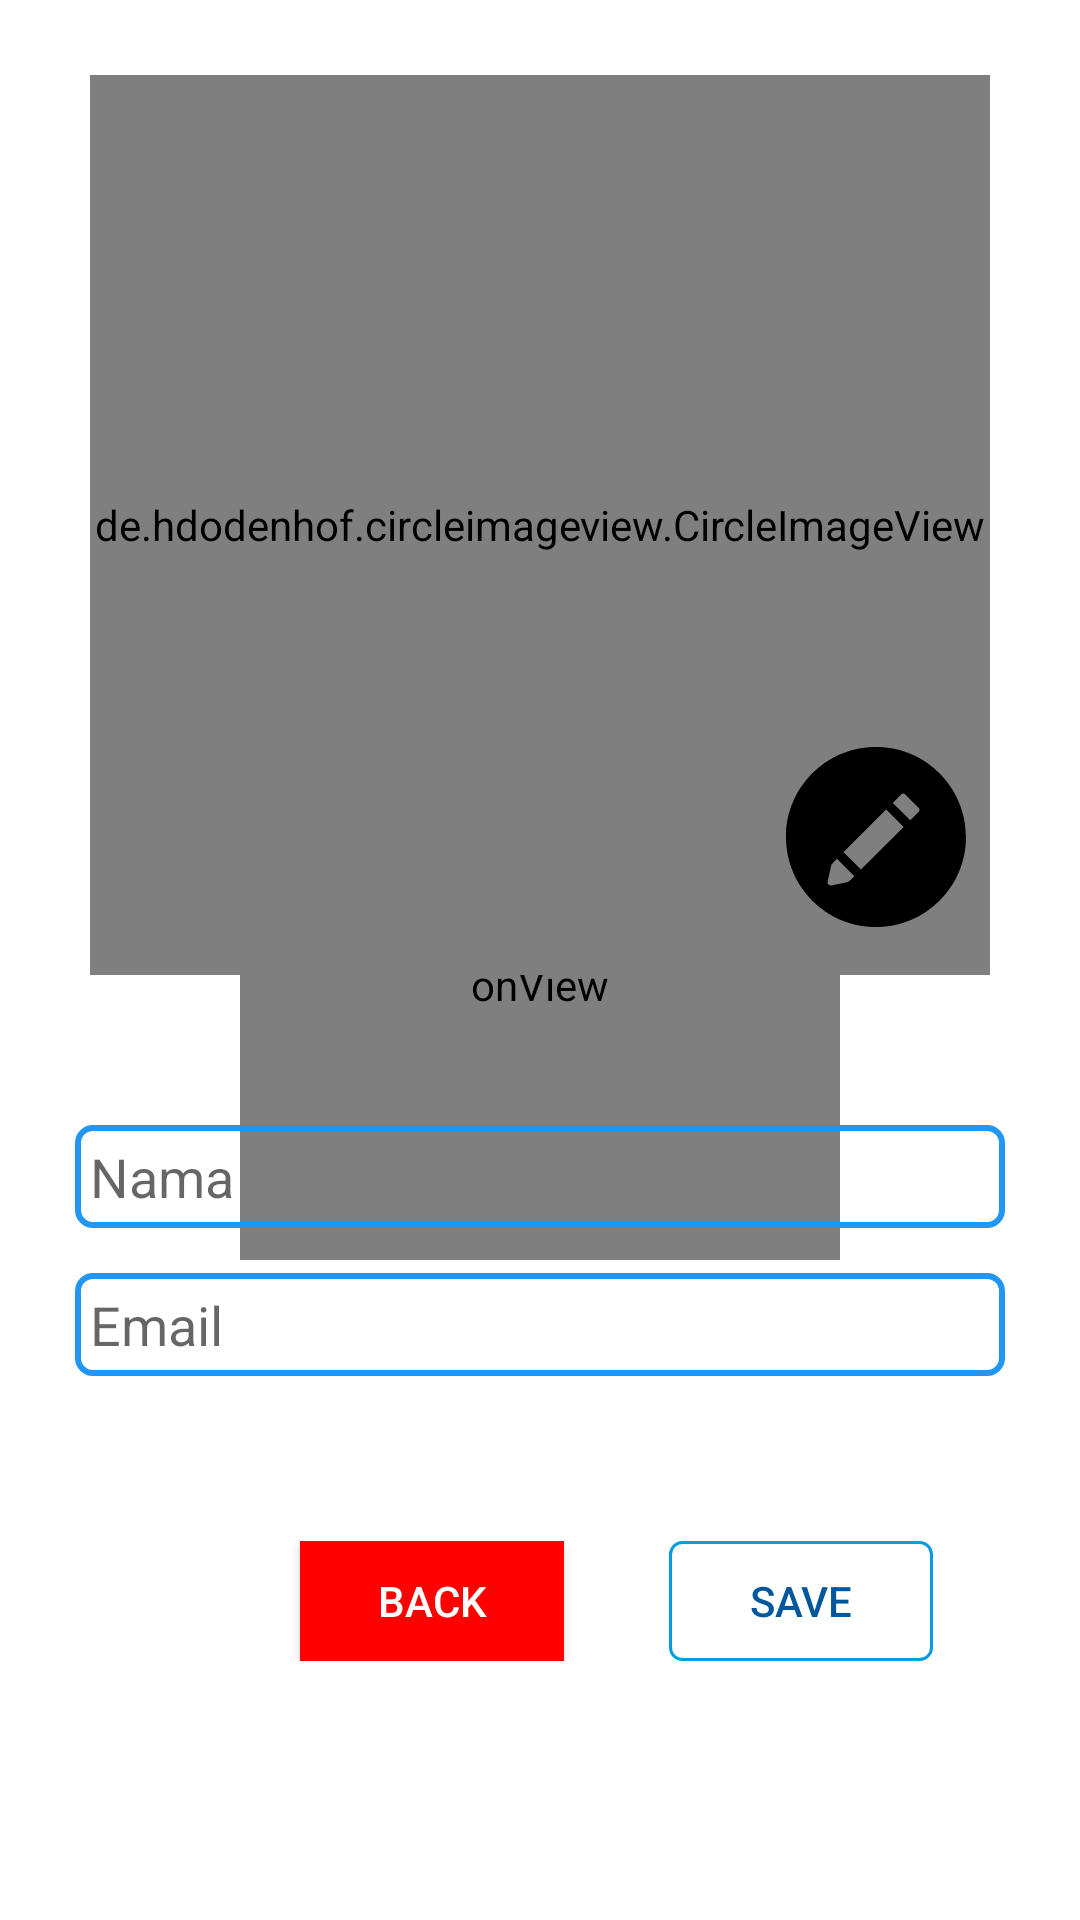

Screen size 1080 x 1920. Icon name, then its center in pixels as [x,y]:
pencil: [876,837]
